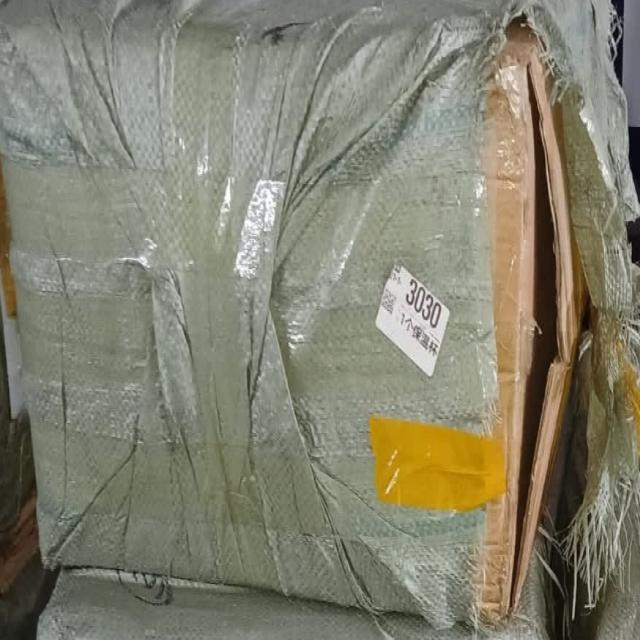carton_box: (0, 5, 640, 639)
package_damage: (490, 40, 630, 638)
